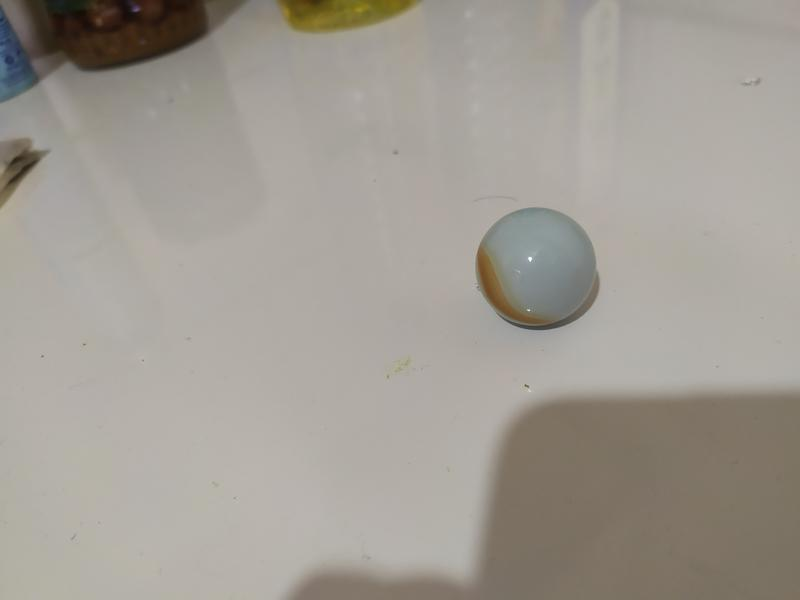Warning: (472, 204, 600, 331)
